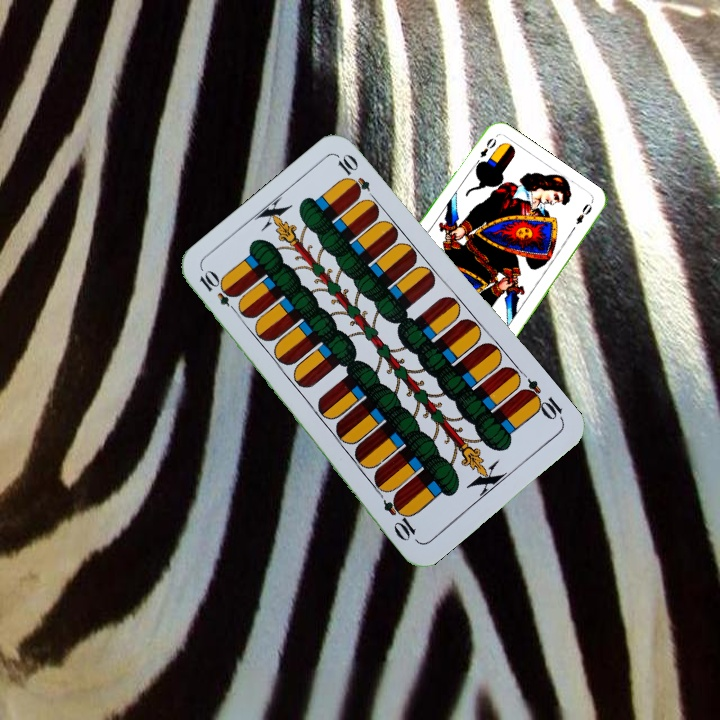E10: (516, 375, 567, 424), (195, 268, 243, 317)
EO: (476, 134, 499, 160)
